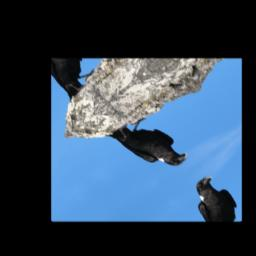Crow: (104, 107, 193, 185)
